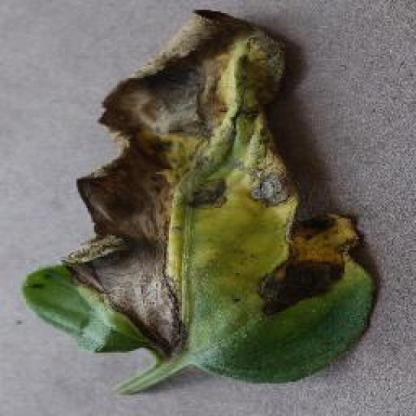Tomato_Blight: (28, 9, 376, 394)
